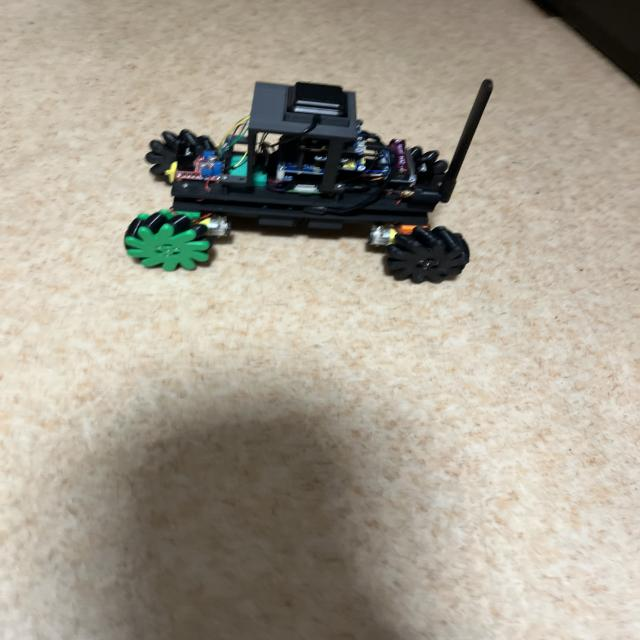robot: (124, 79, 493, 284)
